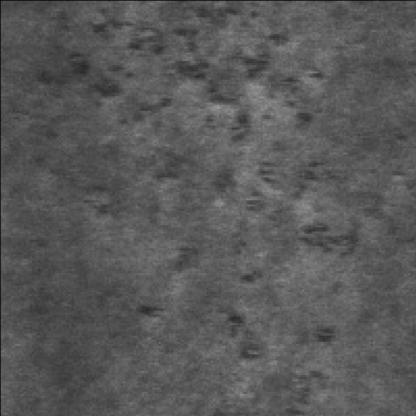rolled-in_scale: (62, 2, 333, 229), (225, 314, 333, 416)
